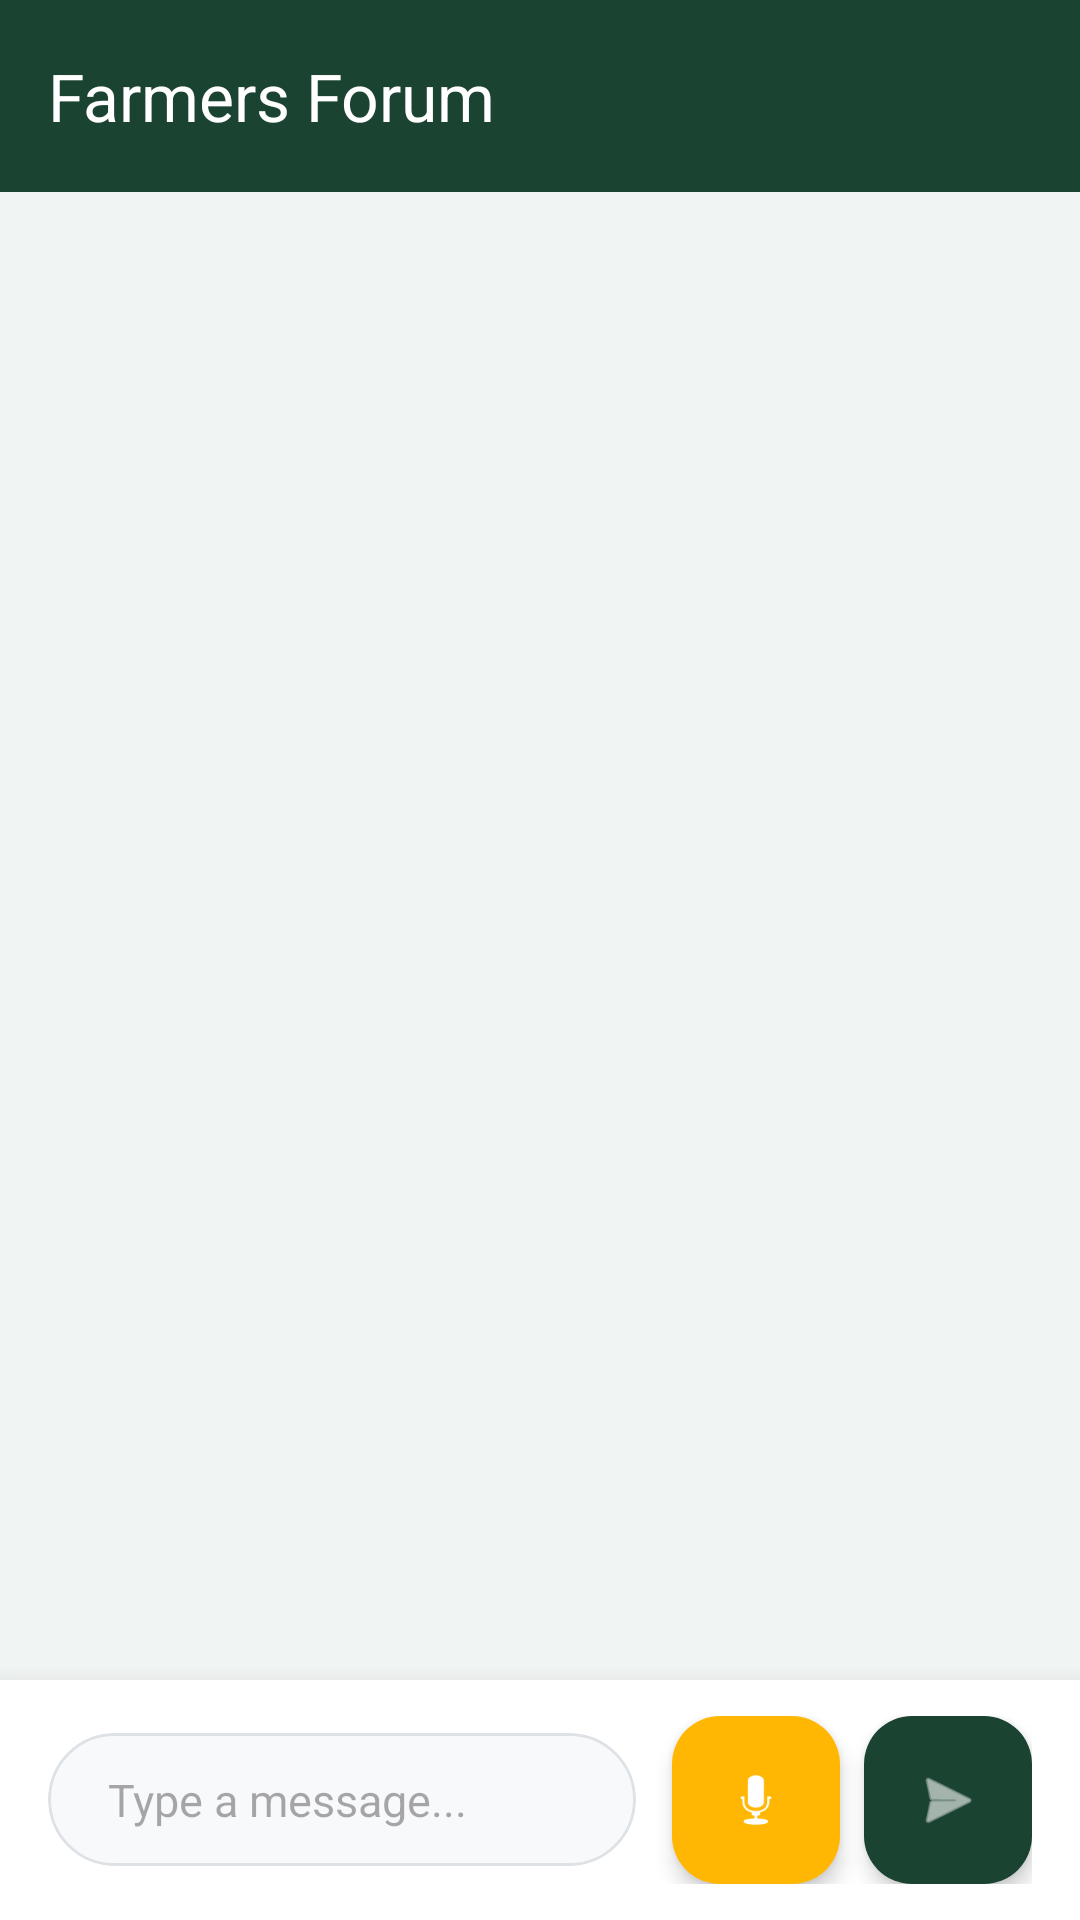

Where to tap for icons on this 1080x1920 app screen, as [x,y]:
send: [948,1800]
speak now: [756,1800]
